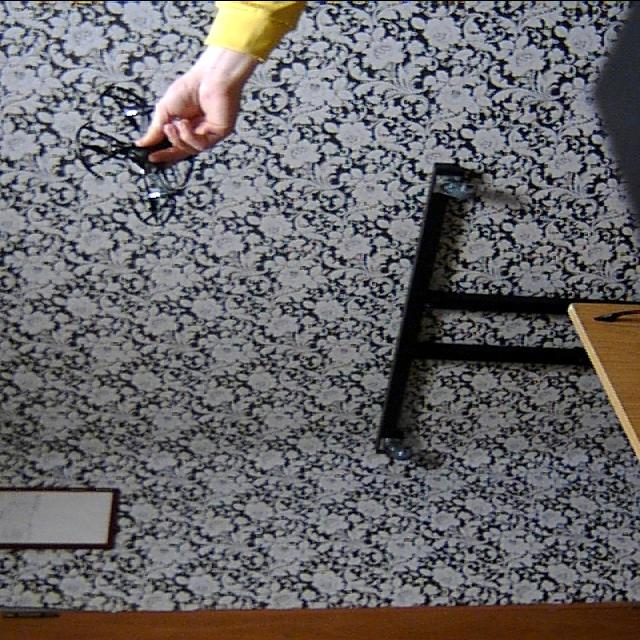drone: (68, 80, 204, 230)
